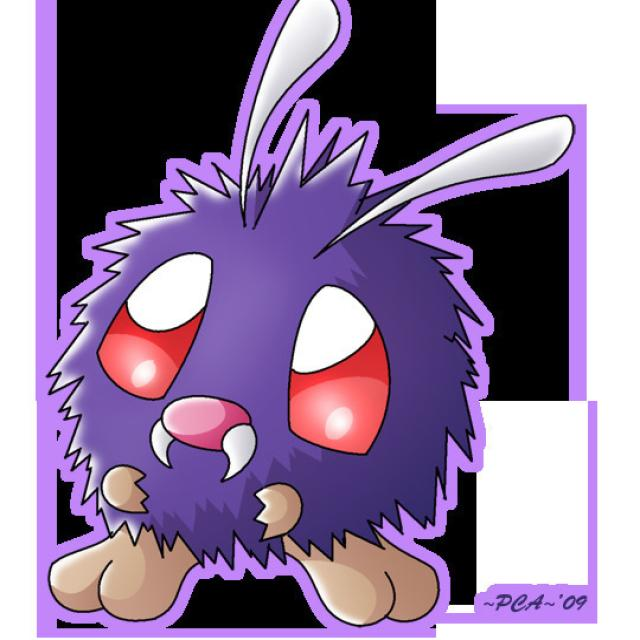Venonat: (44, 110, 462, 640)
